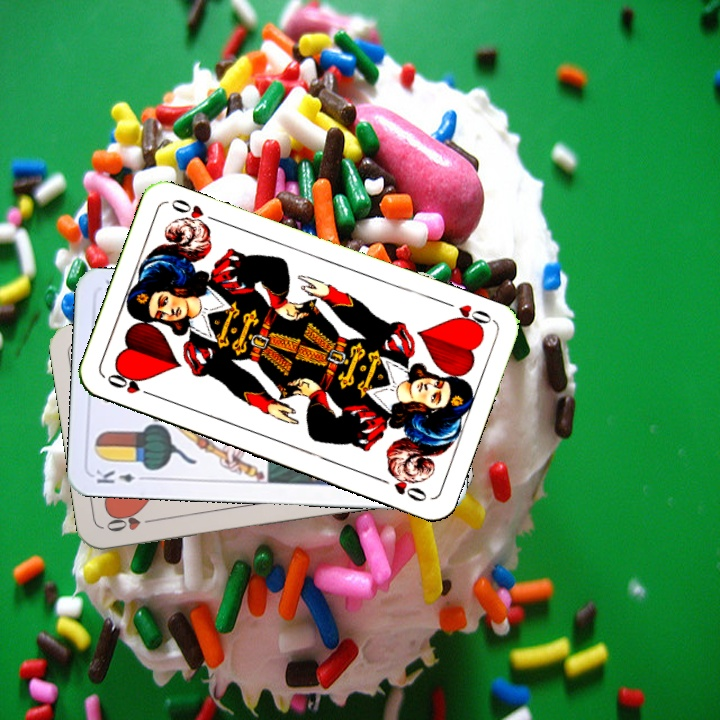EK: (92, 466, 151, 487)
HO: (438, 296, 496, 333), (103, 368, 159, 400), (102, 509, 160, 535)
